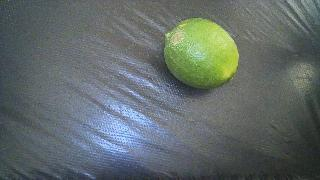DESECHO: (164, 18, 239, 89)
